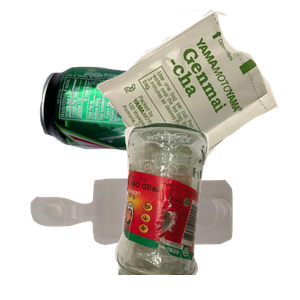glass: (112, 120, 300, 300)
metal: (37, 64, 245, 214)
plastic: (28, 176, 253, 300)
trash: (91, 10, 300, 186)
